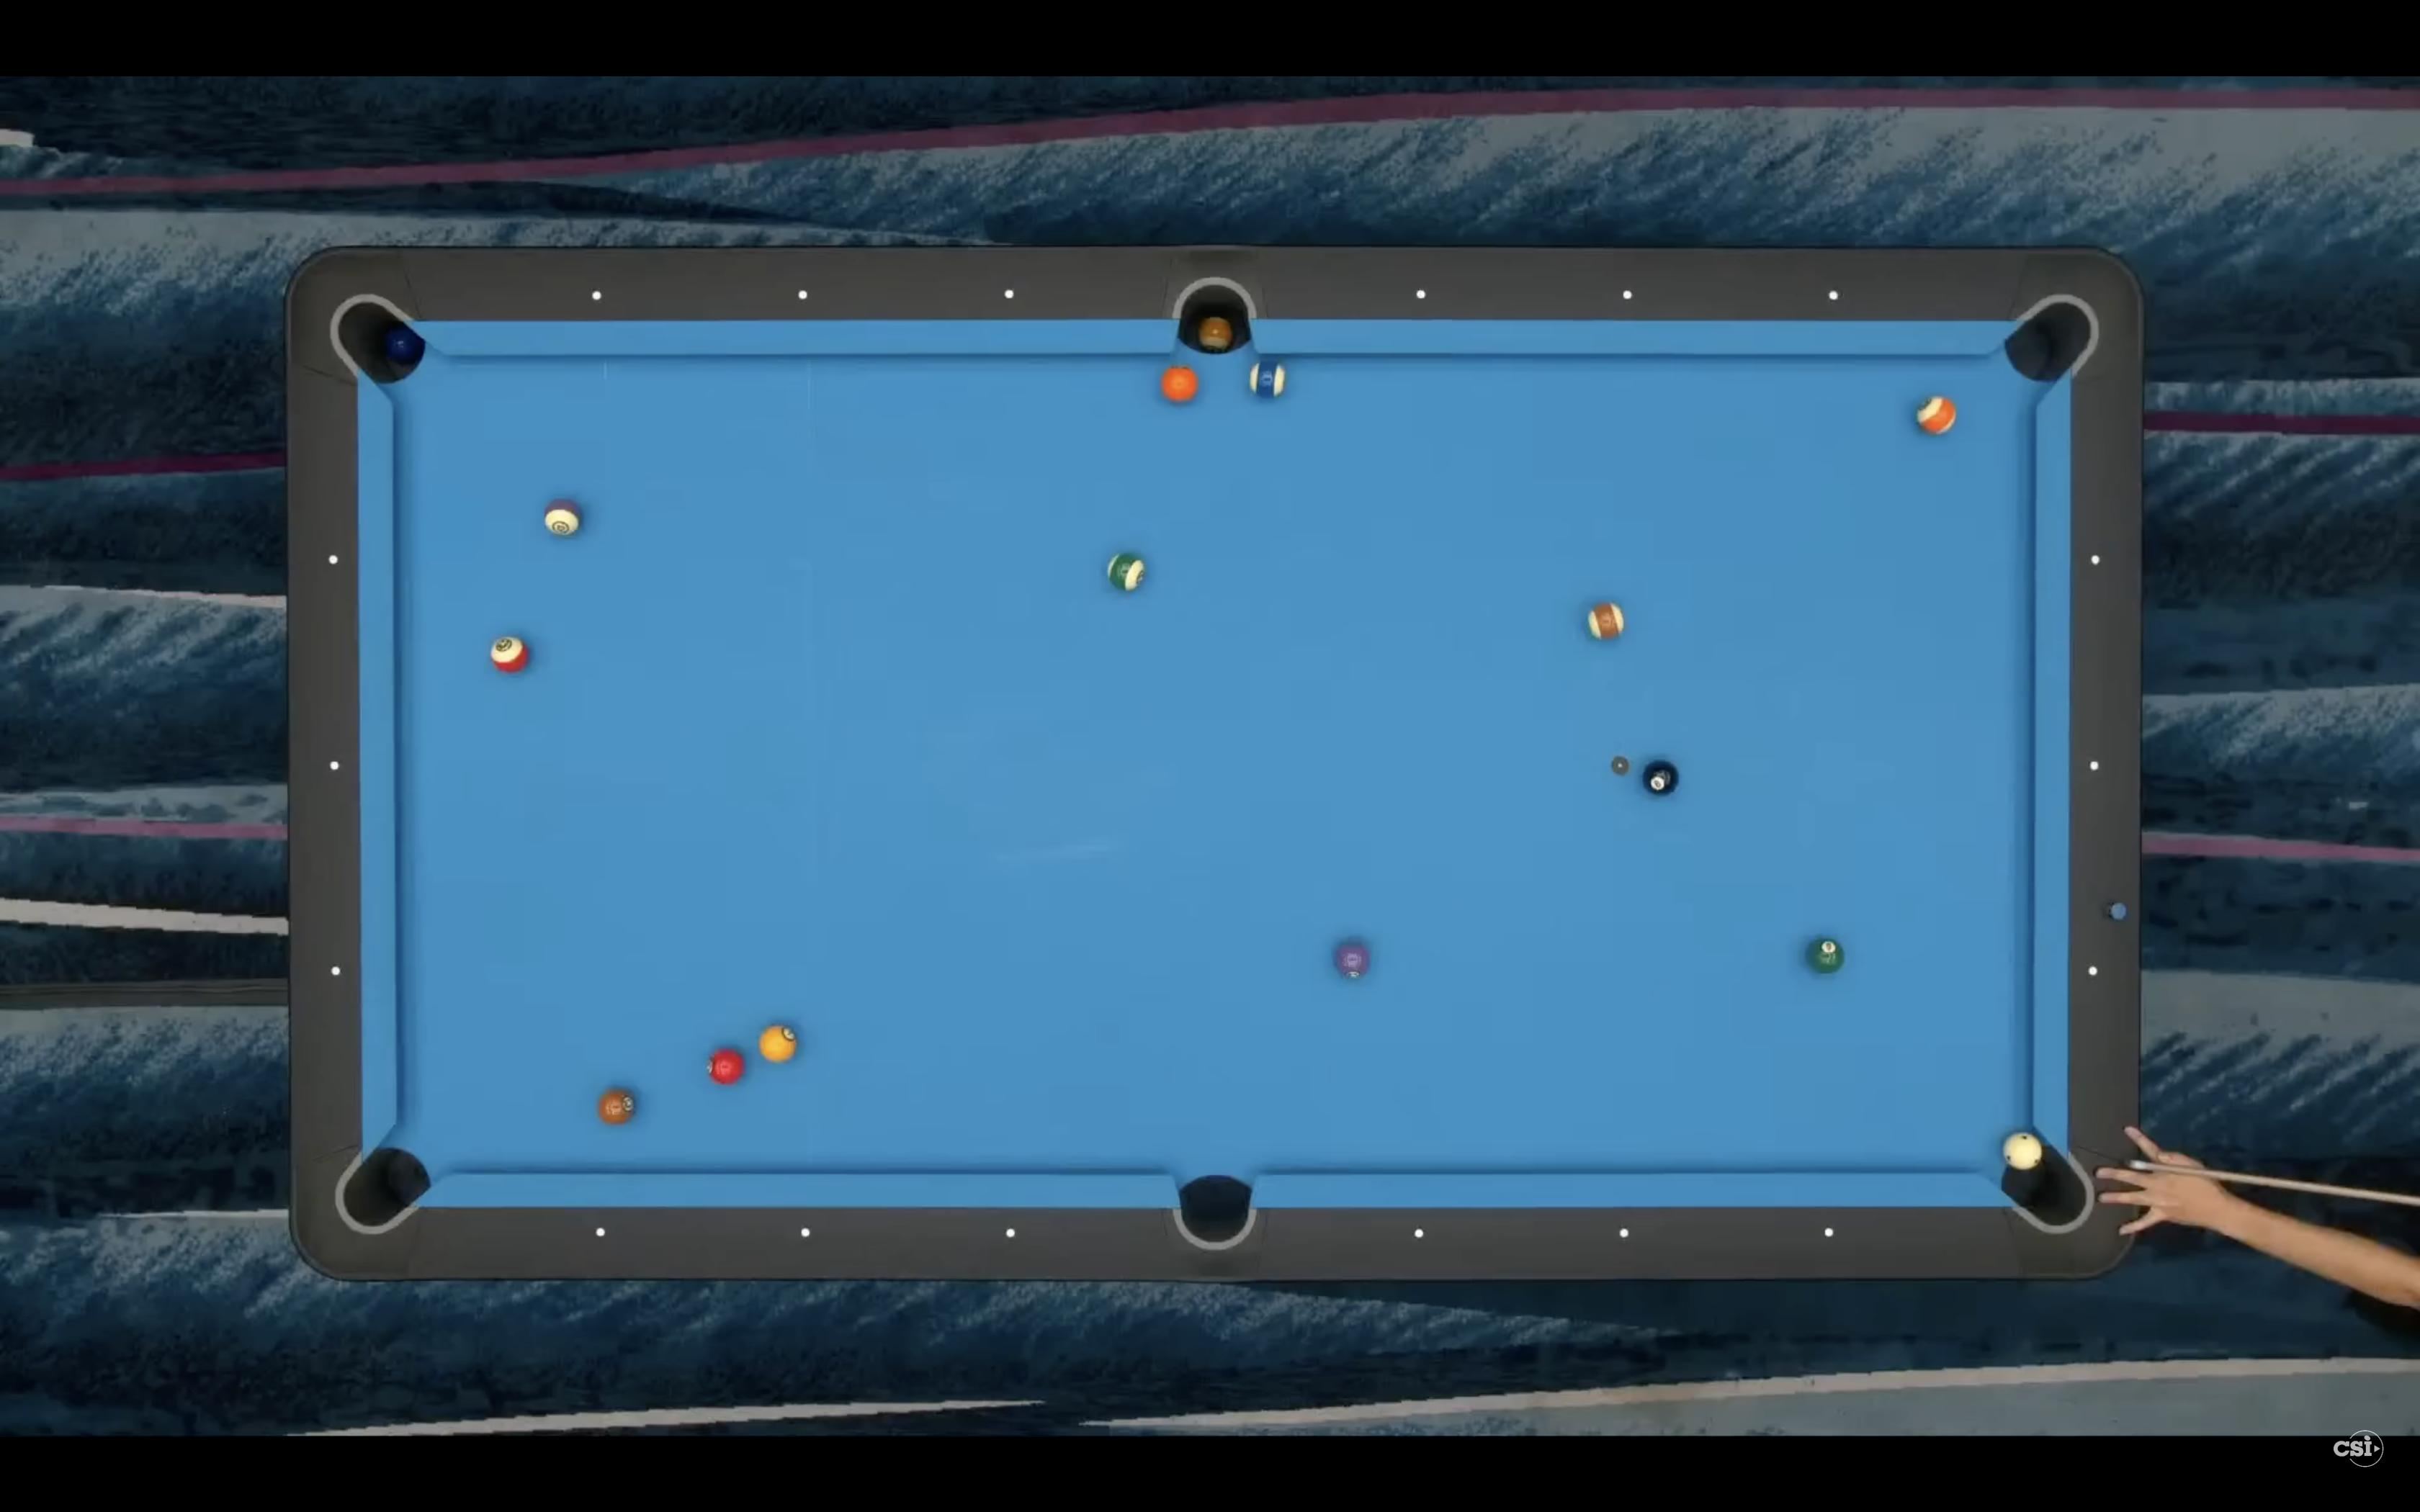Black: (1643, 759, 1680, 796)
Cue: (2004, 1132, 2042, 1171)
Dot: (1004, 289, 1014, 300), (798, 289, 808, 300), (1005, 1228, 1016, 1239), (2089, 761, 2099, 772), (1622, 289, 1632, 300), (329, 761, 340, 770), (596, 1228, 606, 1237), (1415, 1228, 1423, 1239), (1620, 1228, 1629, 1239), (2091, 556, 2101, 564), (1416, 289, 1427, 298), (592, 291, 601, 300), (329, 556, 338, 564), (331, 967, 340, 975), (801, 1228, 810, 1237), (2089, 967, 2098, 975), (1829, 291, 1838, 300), (1826, 1228, 1833, 1237)
Solid: (1808, 937, 1845, 975), (707, 1049, 744, 1085), (760, 1026, 796, 1063), (599, 1089, 634, 1125), (1162, 366, 1197, 401), (1336, 942, 1369, 979)
Striped: (491, 636, 530, 674), (1108, 552, 1145, 591), (1587, 603, 1624, 641), (1916, 397, 1955, 434), (1249, 361, 1286, 397), (545, 500, 580, 535)
